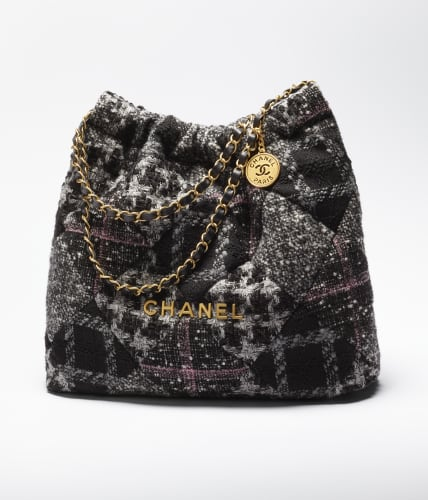channel: (36, 72, 409, 424), (133, 284, 286, 335), (68, 192, 198, 223), (246, 153, 311, 202)
